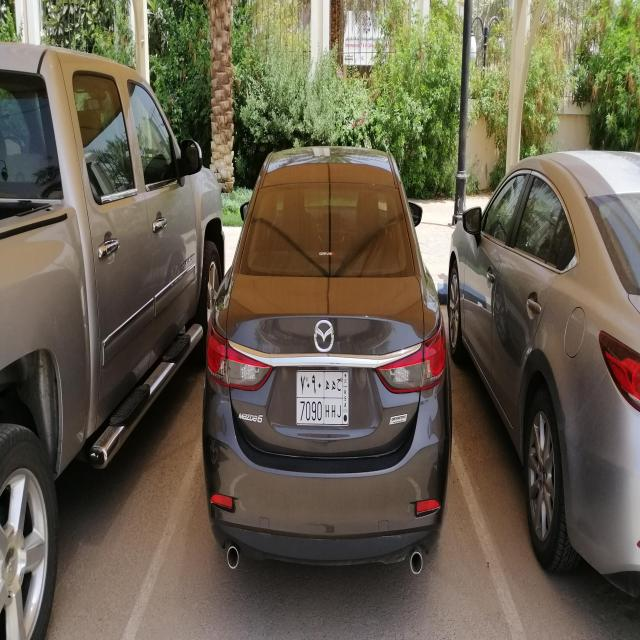license_plate: (296, 369, 348, 427)
